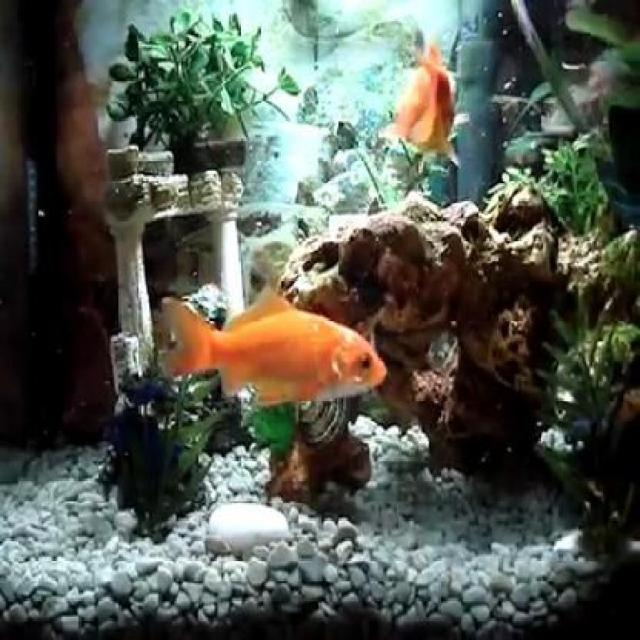GoldFish: (158, 285, 388, 412), (389, 37, 466, 168)
